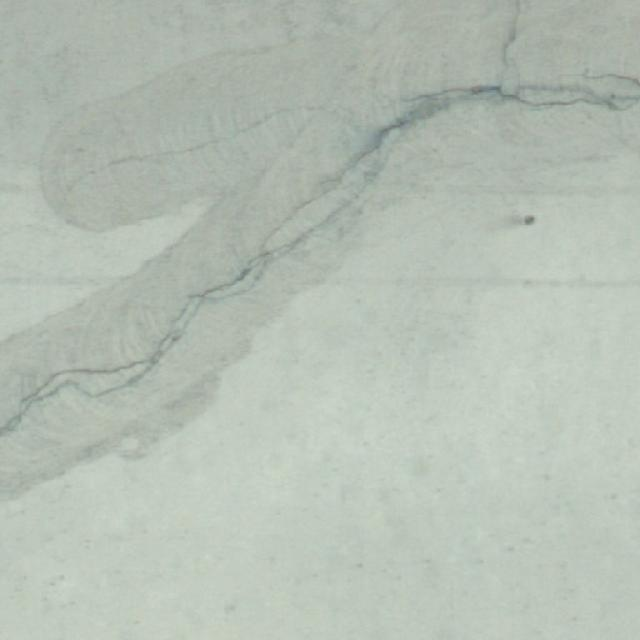Network: (0, 0, 640, 451)
